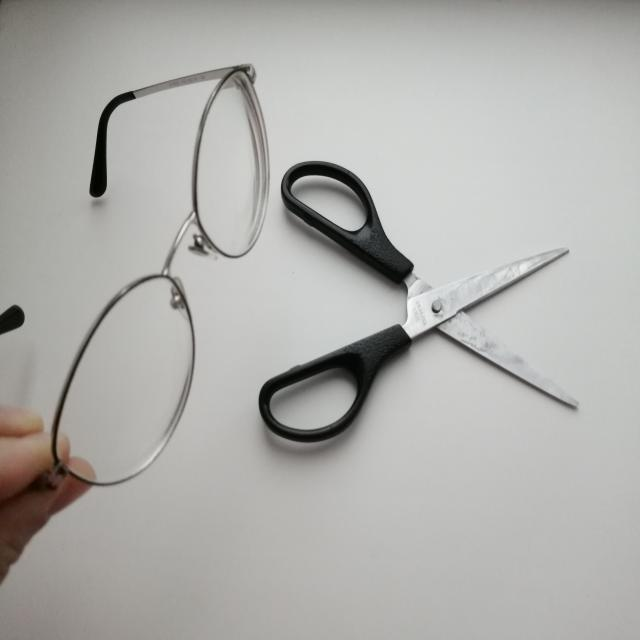scissors: (236, 133, 613, 491)
